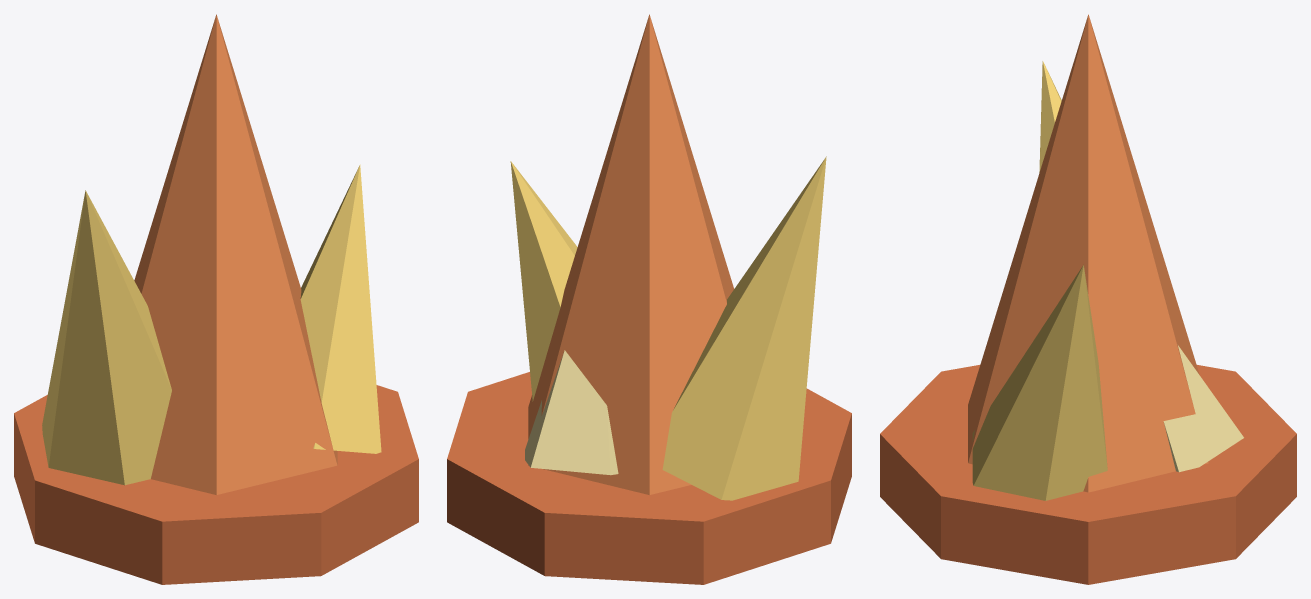
File: pyromite_item.glb
3 renders of one model, left to right at view 1: azimuth 30°, elevation 25°; view 2: azimuth 150°, elevation 25°; view 3: azimuth 270°, elevation 25°, orthographic.
Parts seen in each view (by area): view 1: FlameMain, PyroBase, FlameLeft, FlameRight; view 2: FlameMain, PyroBase, FlameLeft, FlameRight, FlameBack; view 3: PyroBase, FlameMain, FlameRight, FlameBack, FlameLeft.
Boxes of the visible parts, bbox=[...] form: FlameMain: bbox=[134, 14, 337, 494]; PyroBase: bbox=[14, 385, 418, 584]; FlameLeft: bbox=[42, 190, 171, 485]; FlameRight: bbox=[300, 164, 381, 453]; FlameMain: bbox=[528, 14, 733, 494]; PyroBase: bbox=[447, 372, 851, 584]; FlameLeft: bbox=[662, 156, 826, 500]; FlameRight: bbox=[510, 161, 577, 401]; FlameBack: bbox=[525, 350, 618, 475]; PyroBase: bbox=[880, 365, 1296, 584]; FlameMain: bbox=[968, 14, 1208, 492]; FlameRight: bbox=[972, 265, 1107, 500]; FlameBack: bbox=[1163, 345, 1243, 472]; FlameLeft: bbox=[1039, 61, 1061, 172].
Bounding box in the file's own units: 0.18 × 0.23 × 0.18.
